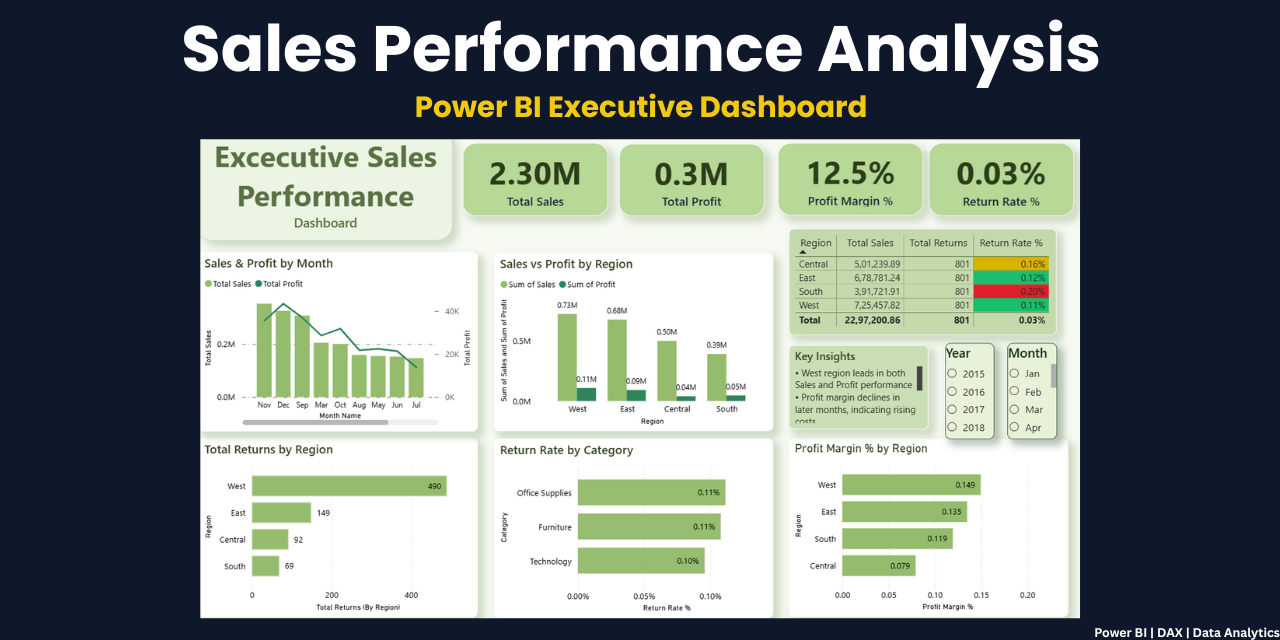

What the dashboard file says about the page in this screenshot:
{"tool":"powerbi","page":{"name":"Page 1","canvas":[1280,720],"ordinal":0},"visuals":[{"type":"clusteredBarChart","title":"Total Returns by Region","fields":{"Category":["Fact_Sales.Region"],"Y":["Fact_Returns.Total Returns (By Region)"]},"box":[0,446.6,404.9,260.2],"z":0},{"type":"tableEx","fields":{"Values":["Fact_Sales.Region","Dim_RegionManager.Total Sales","Dim_RegionManager.Total Returns","Dim_RegionManager.Return Rate %"]},"box":[855.8,143.1,388.1,154.3],"z":1000},{"type":"card","title":"Total Sales","fields":{"Values":["Dim_RegionManager.Total Sales"]},"box":[383.1,18.7,210.2,105.7],"z":2000},{"type":"card","title":"Total Profit","fields":{"Values":["Fact_Sales.Total Profit"]},"box":[609.5,19.9,210.2,104.5],"z":3000},{"type":"card","title":"Profit Margin","fields":{"Values":["Fact_Sales.Profit Margin %"]},"box":[839.7,18.7,210.2,104.5],"z":4000},{"type":"card","title":"Return Rate","fields":{"Values":["Dim_RegionManager.Return Rate %"]},"box":[1058.6,18.7,210.2,105.7],"z":5000},{"type":"clusteredColumnChart","title":"Sales vs Profit by Region","fields":{"Category":["Fact_Sales.Region"],"Y":["Sum(Fact_Sales.Sales)","Sum(Fact_Sales.Profit)"]},"box":[428.5,178.1,404.9,258.8],"z":8000},{"type":"clusteredBarChart","title":"Return Rate by Category","fields":{"Category":["Fact_Sales.Category"],"Y":["Dim_RegionManager.Return Rate %"]},"box":[428.5,448,404.9,260.2],"z":9000},{"type":"lineClusteredColumnComboChart","title":"Sales & Profit by Month","fields":{"Category":["Dim_Date.Month Name"],"Y":["Dim_RegionManager.Total Sales"],"Y2":["Fact_Sales.Total Profit"]},"box":[0,176.7,404.9,260.2],"z":10000},{"type":"textbox","title":"Excecutive Sales Performance ","box":[0,0,367,159.2],"z":11000},{"type":"clusteredBarChart","fields":{"Y":["Fact_Sales.Profit Margin %"],"Category":["Fact_Sales.Region"]},"box":[855.7,448,404.9,258.8],"z":13000},{"type":"textbox","title":"Key Insights","box":[855.8,312.2,202.8,121.9],"z":14000},{"type":"listSlicer","fields":{"Values":["Dim_Date.Year"]},"box":[1082.2,308.5,70.9,139.3],"z":14001},{"type":"listSlicer","title":"Month ","fields":{"Values":["Dim_Date.Month Name"]},"box":[1171.8,308.5,72.1,139.3],"z":14002}]}

Visuals, with their boxes on the page's 1280x720 design canvas (x1, y1, x2, y2). These are canvas units, not pixel positions in the 1280x640 screenshot, which may show the page scaled, cropped or inside an application window:
"Total Returns by Region" clusteredBarChart: [0,447,405,707]
tableEx - Fact_Sales.Region x Dim_RegionManager.Total Sales: [856,143,1244,297]
"Total Sales" card: [383,19,593,124]
"Total Profit" card: [610,20,820,124]
"Profit Margin" card: [840,19,1050,123]
"Return Rate" card: [1059,19,1269,124]
"Sales vs Profit by Region" clusteredColumnChart: [428,178,833,437]
"Return Rate by Category" clusteredBarChart: [428,448,833,708]
"Sales & Profit by Month" lineClusteredColumnComboChart: [0,177,405,437]
"Excecutive Sales Performance " textbox: [0,0,367,159]
clusteredBarChart - Fact_Sales.Profit Margin % x Fact_Sales.Region: [856,448,1261,707]
"Key Insights" textbox: [856,312,1059,434]
listSlicer - Dim_Date.Year: [1082,308,1153,448]
"Month " listSlicer: [1172,308,1244,448]
